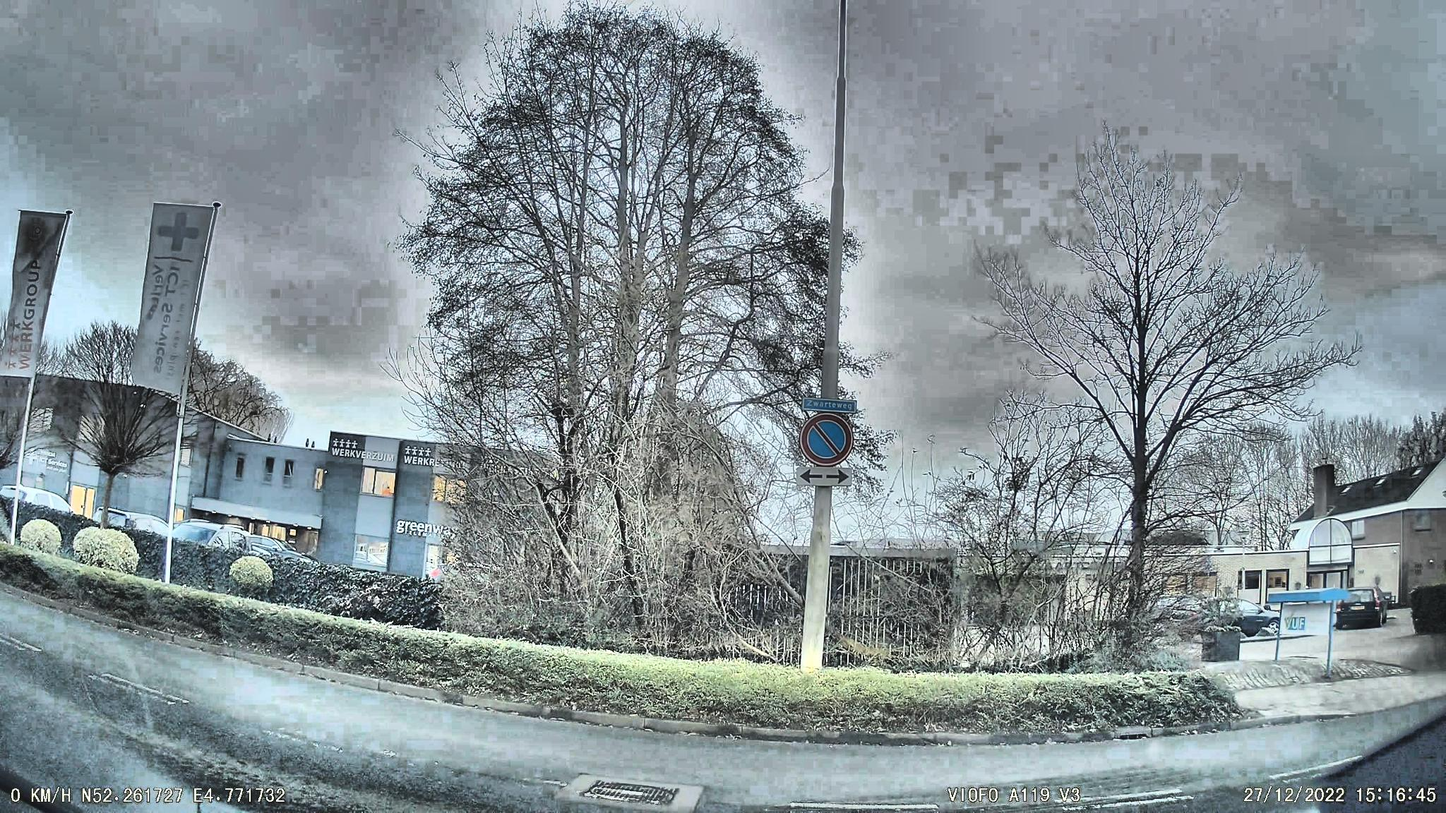Roads: (0, 584, 1446, 813)
